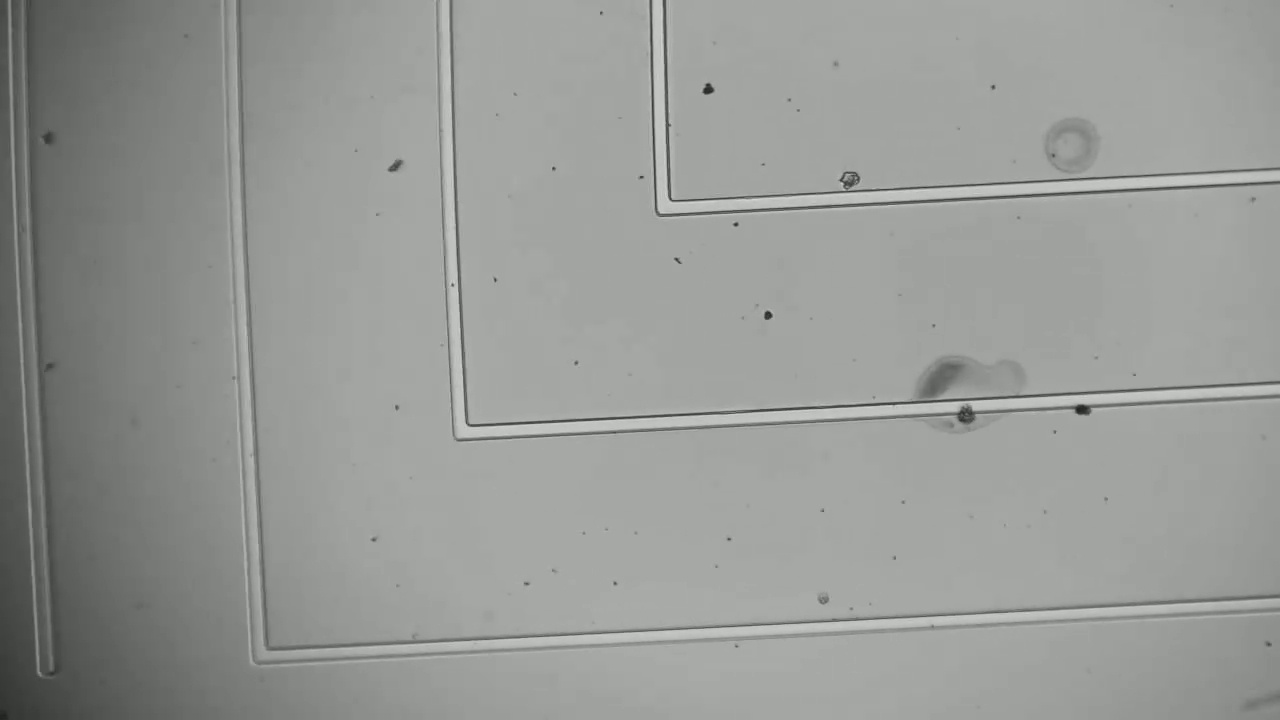stains_enbedded: (946, 393, 984, 433)
